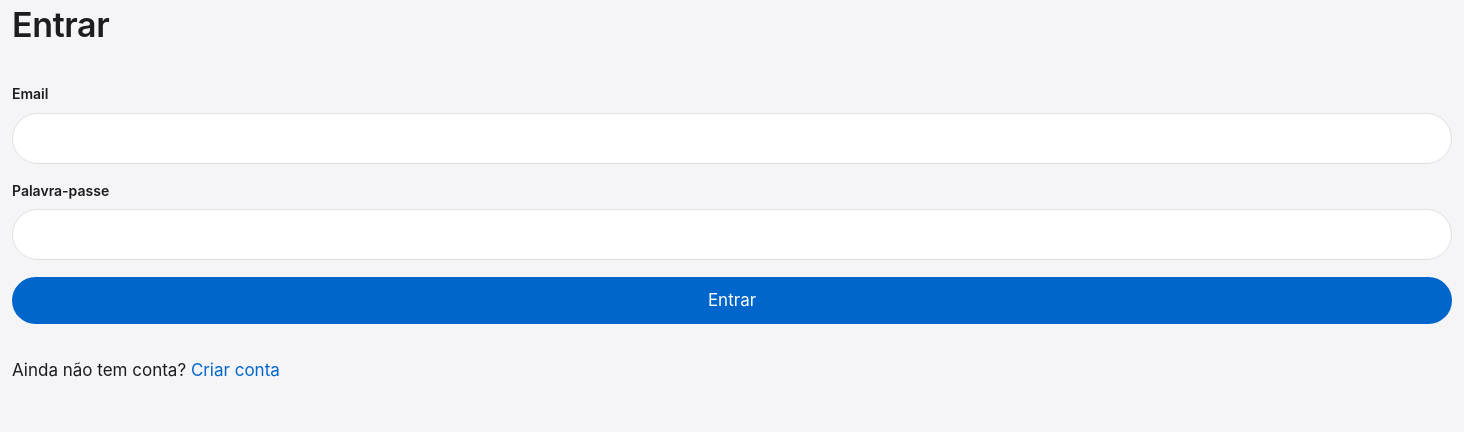
auth UI flows › shows API error on invalid login without crashing
Type "bad@test.com" into the field labelled "Email" at (732, 138), box x1=12 y1=112 x2=1452 y2=164
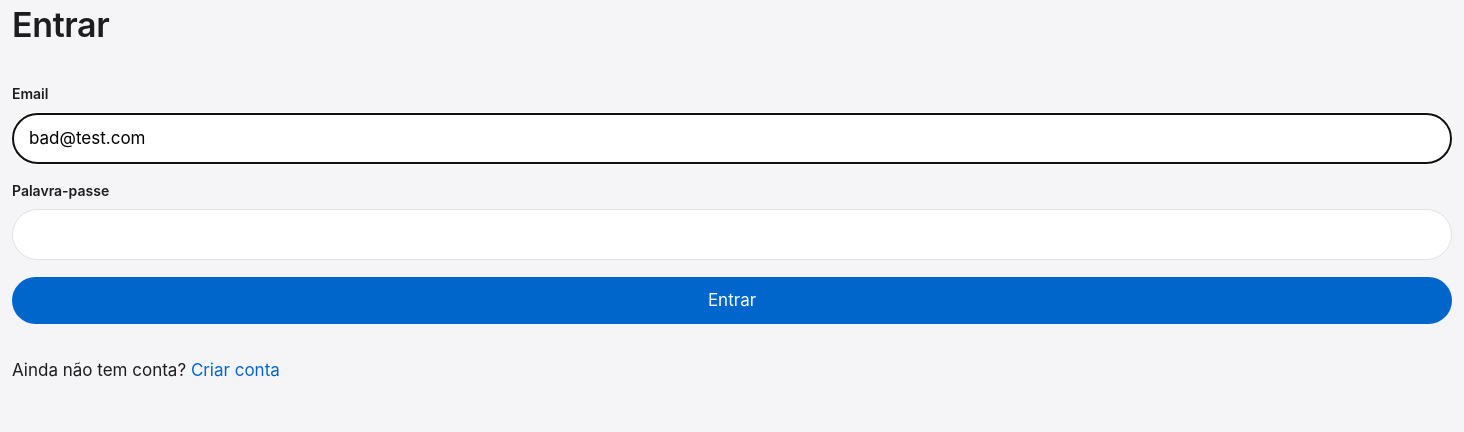
Type "wrongpass" into the password field labelled "Palavra-passe" at (732, 235), box x1=12 y1=209 x2=1452 y2=260
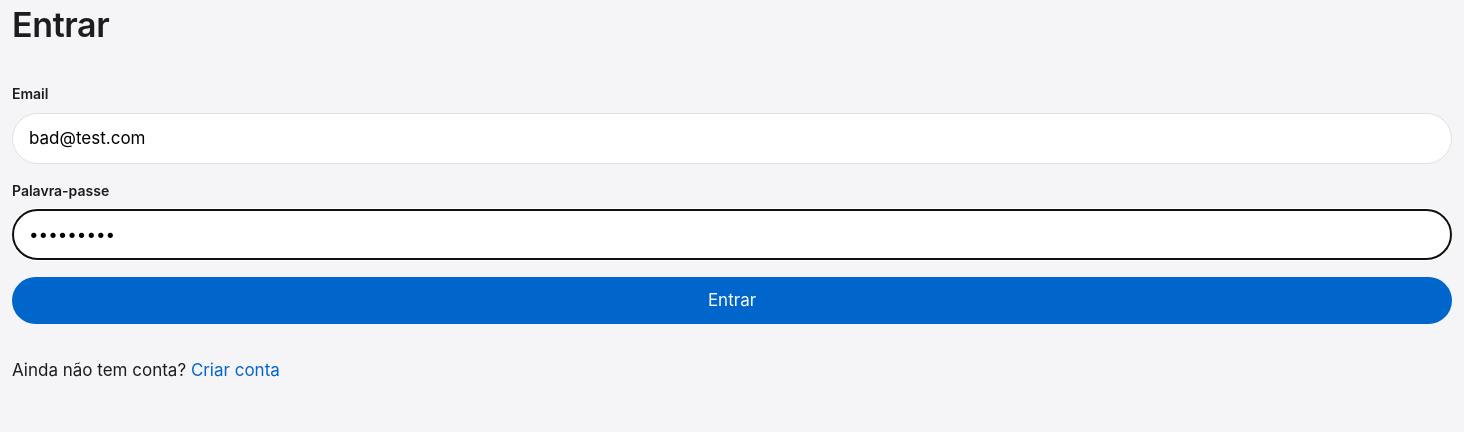
Click the button "Entrar" at (732, 301), box x1=12 y1=277 x2=1452 y2=324
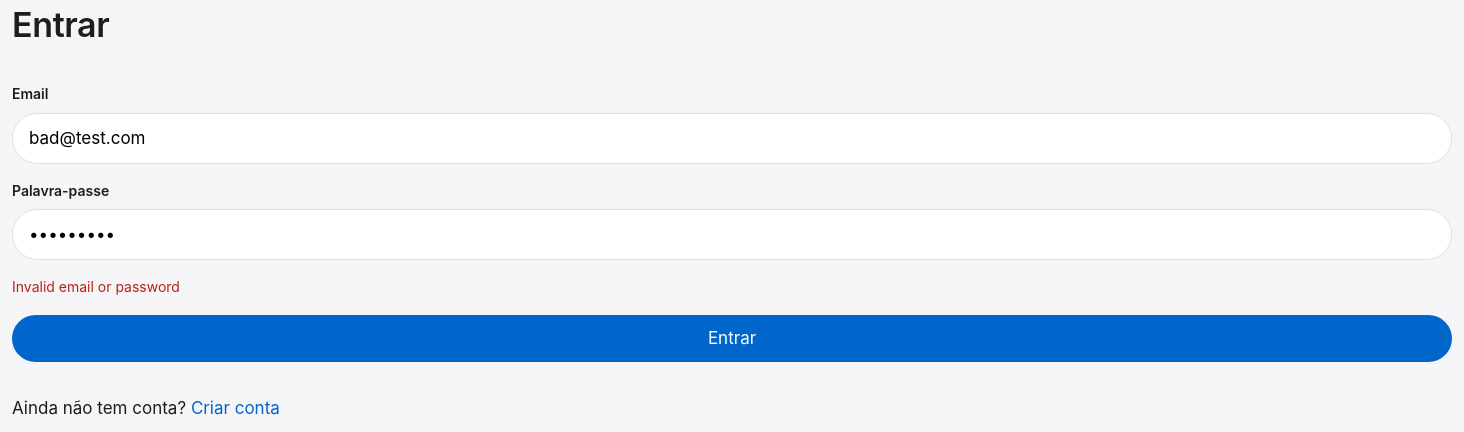
Check: the message reads "Invalid email or password", box x1=12 y1=278 x2=180 y2=295
